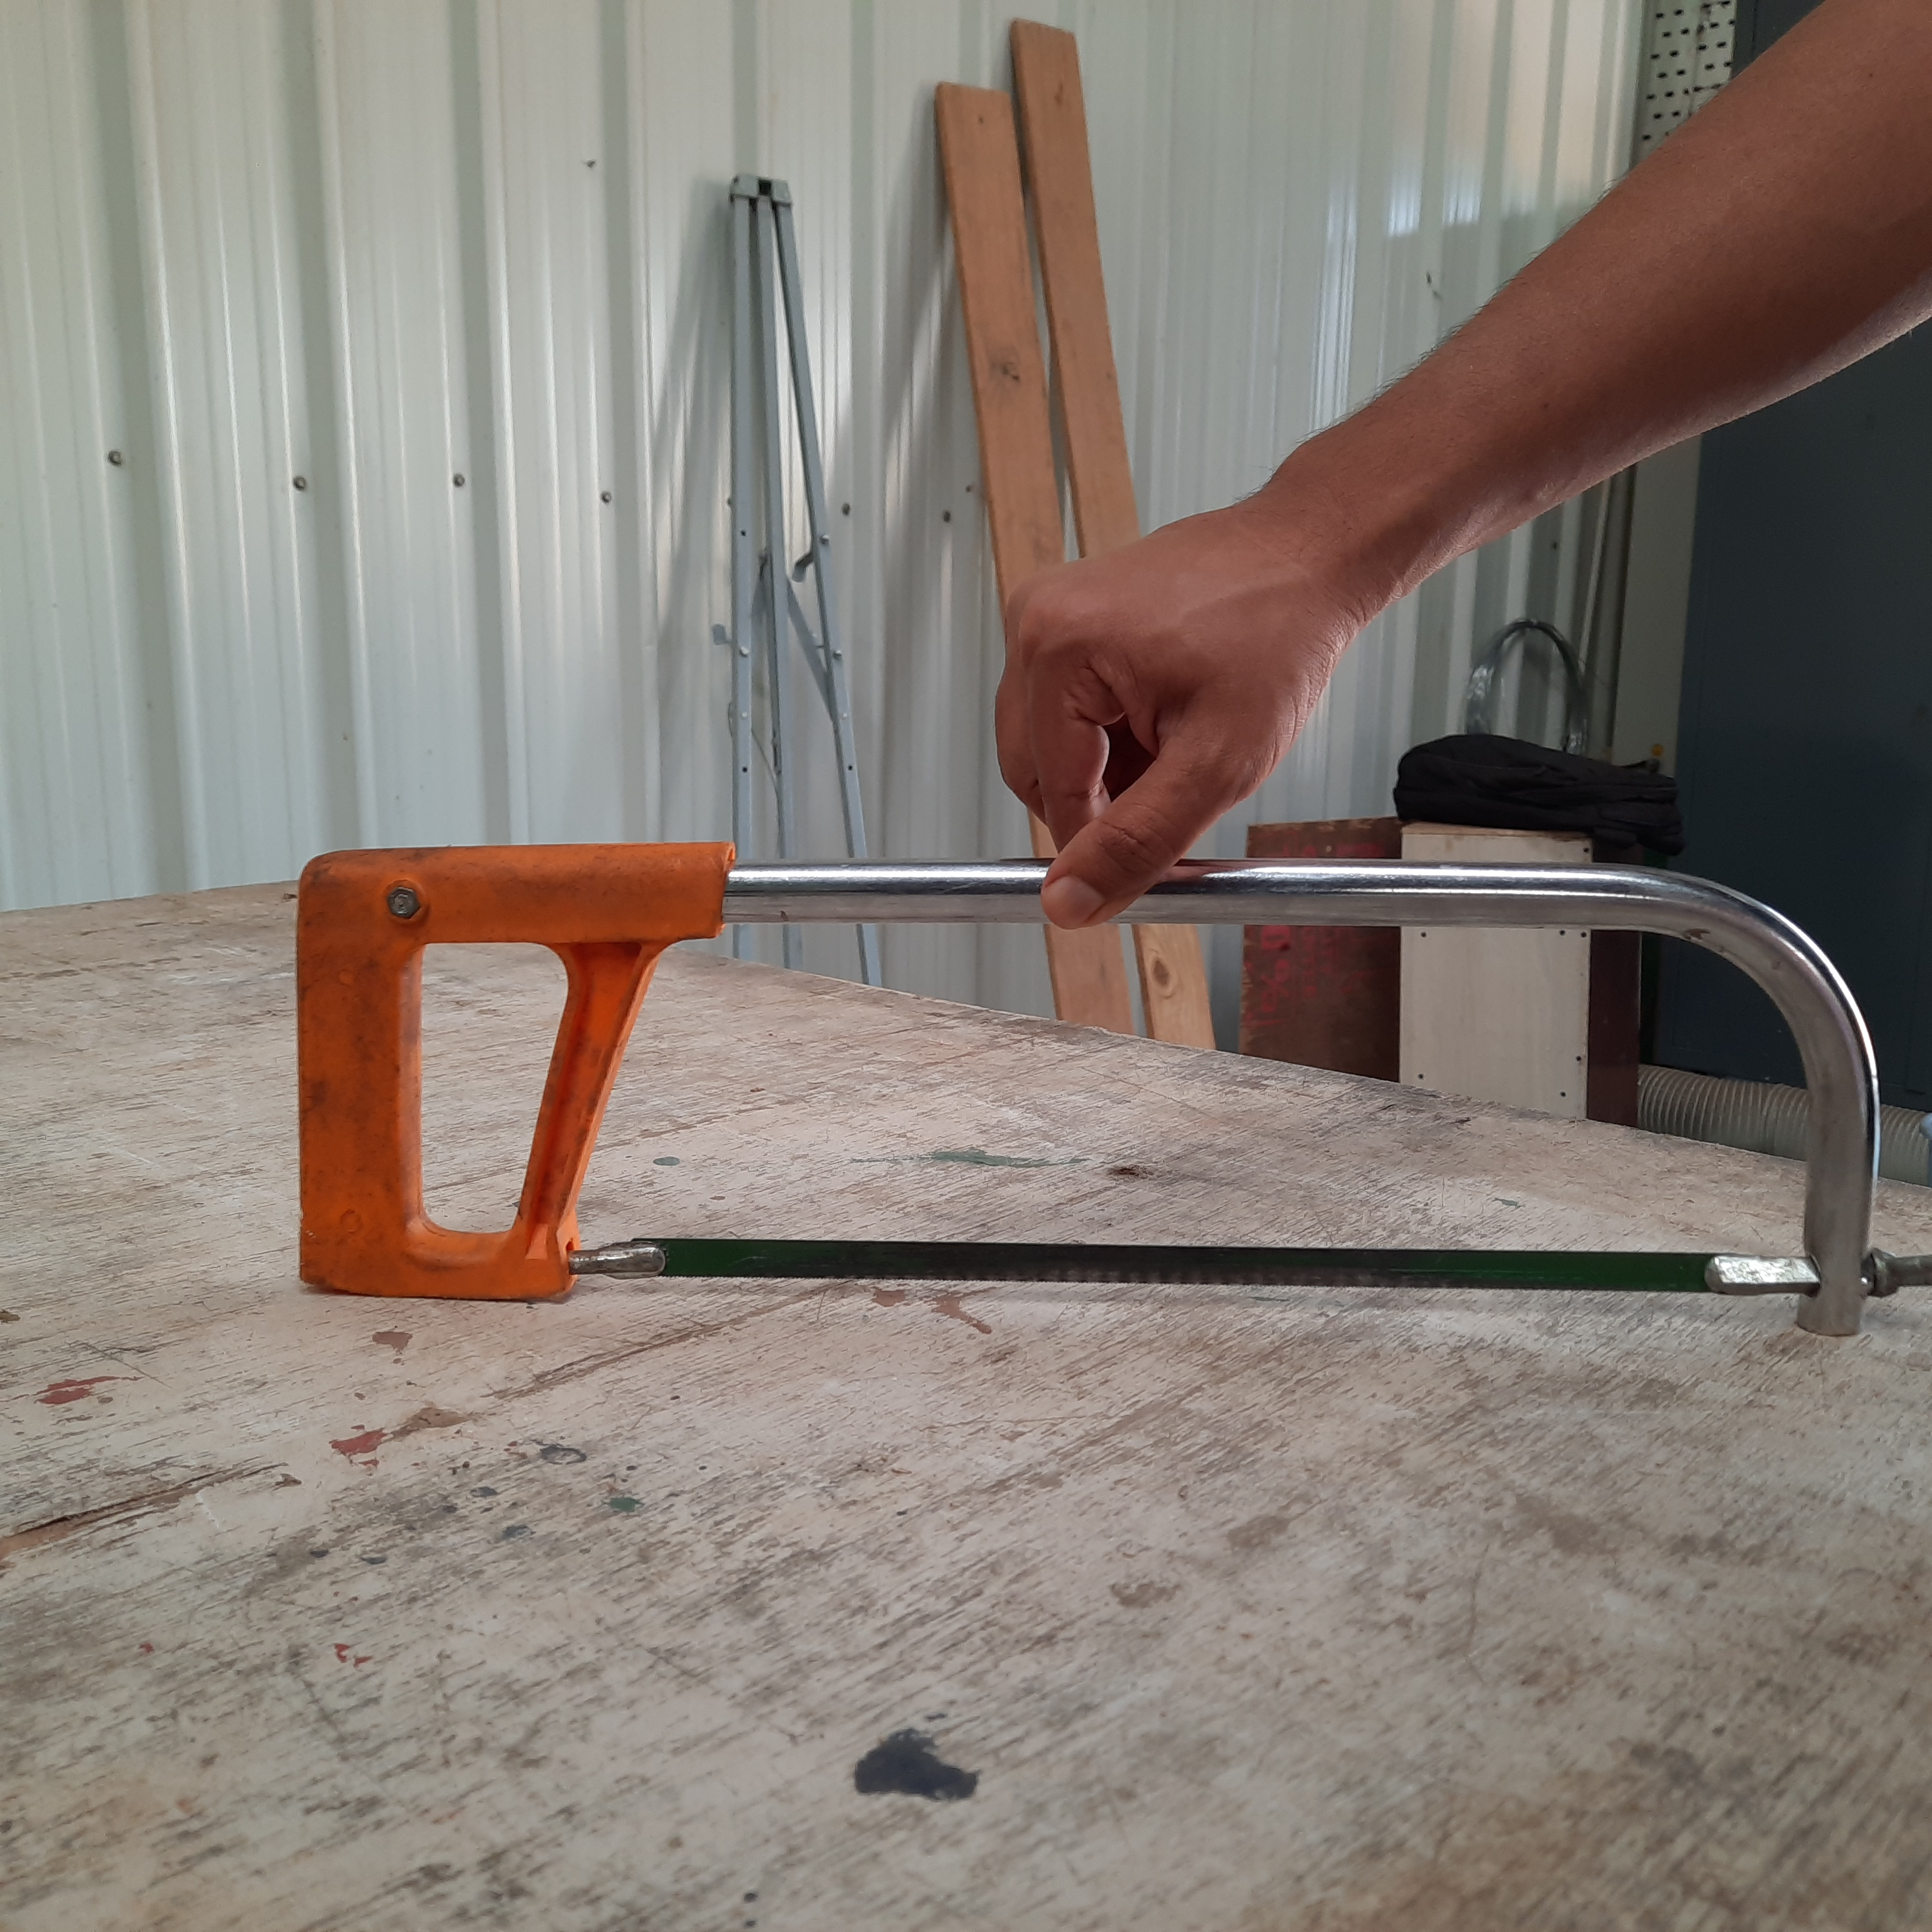Hexaframe: (241, 793, 1928, 1368)
